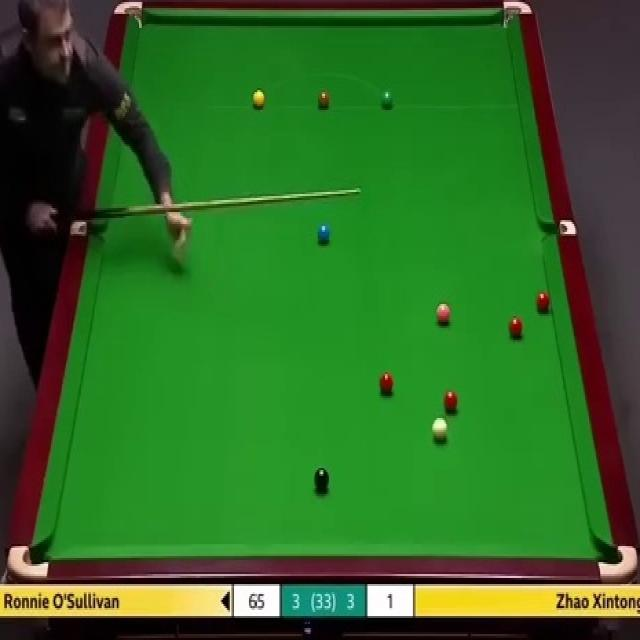pocket: (5, 543, 51, 582), (597, 540, 637, 583), (503, 0, 533, 31), (113, 0, 143, 28), (69, 220, 107, 237), (540, 220, 574, 235)
